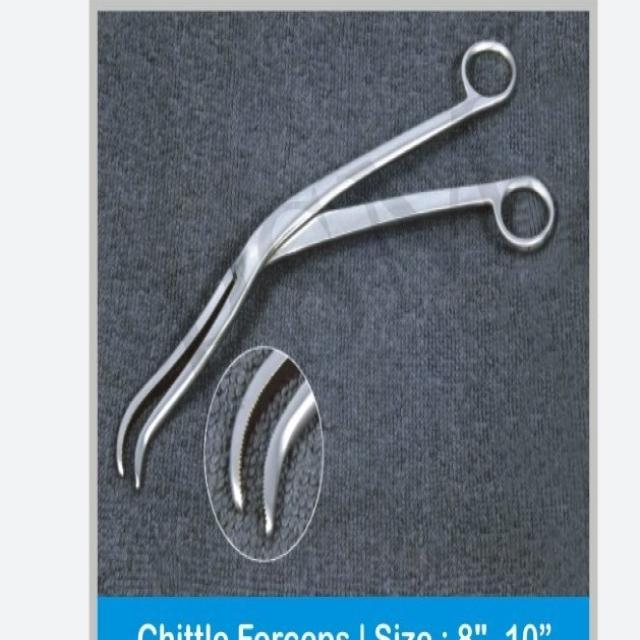Cheatle Forceps: (110, 35, 556, 498)
